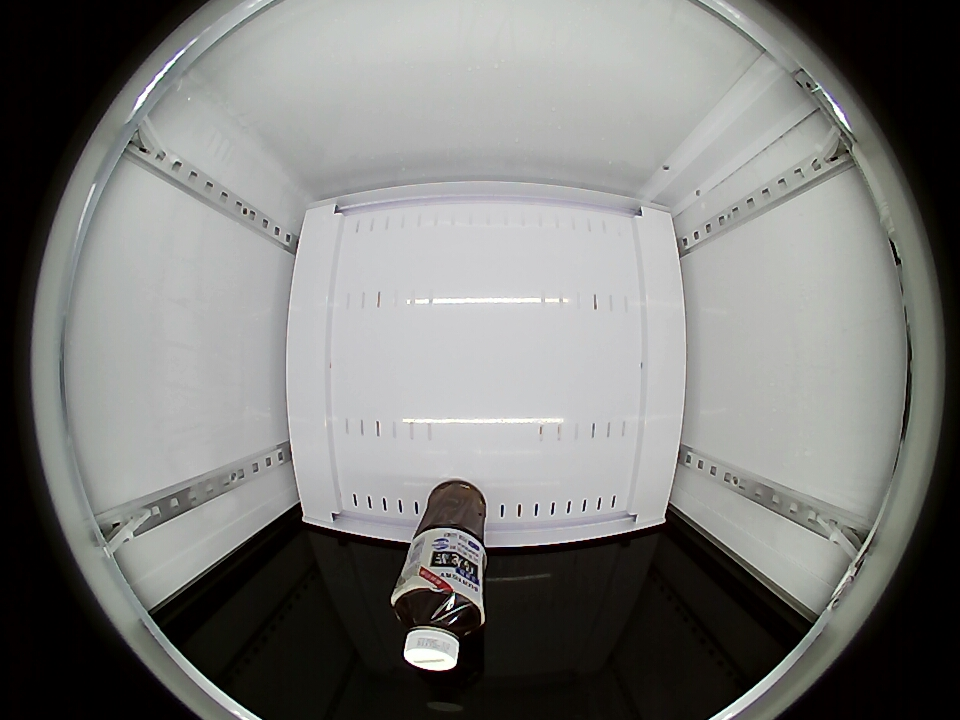wulongcha: (393, 572, 486, 673)
